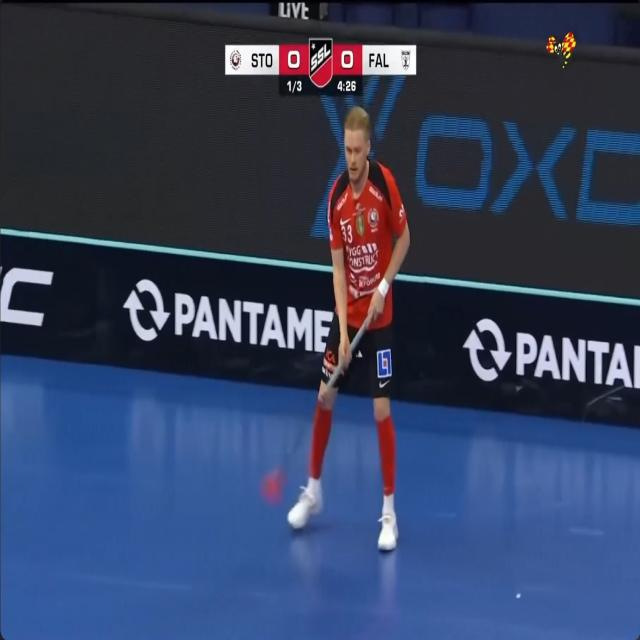player: (288, 106, 409, 550)
stick: (262, 429, 306, 499), (350, 314, 372, 355), (326, 362, 343, 387)
